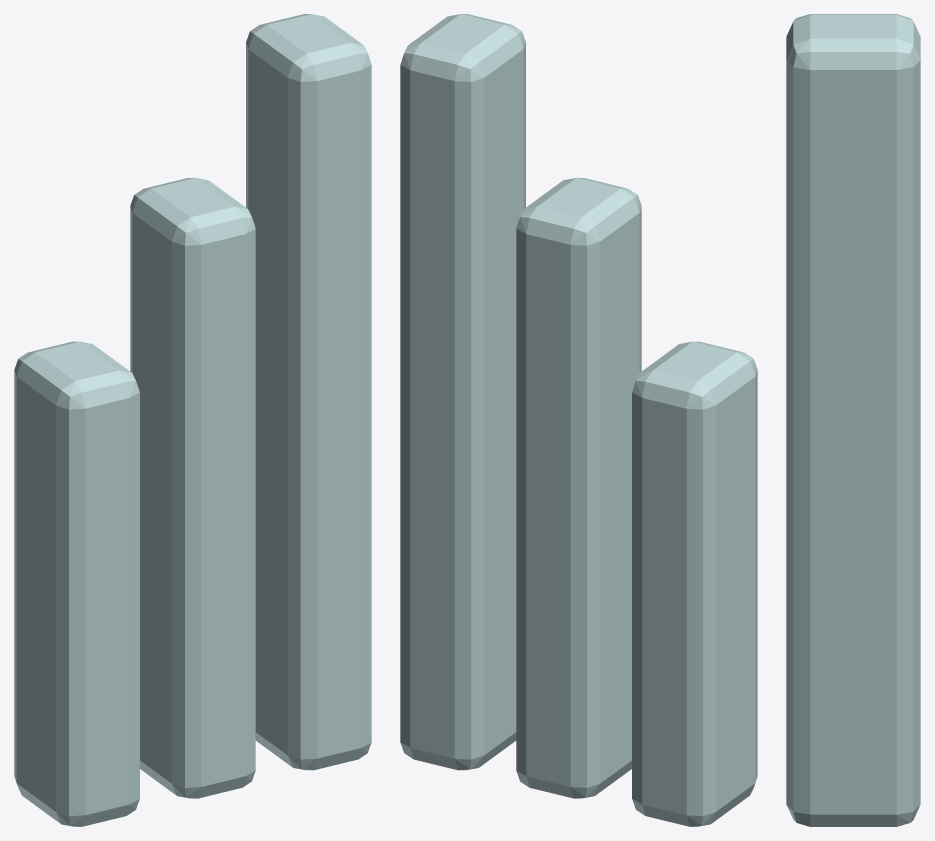
Rendered from monolith.glb.
The picture shows the model from 3 angles, left to right: view 1: azimuth 30°, elevation 25°; view 2: azimuth 150°, elevation 25°; view 3: azimuth 270°, elevation 25°; orthographic projection. The views are drawn at different scales.
Visible parts, largest first — view 1: Sculpt__Glass stone; view 2: Sculpt__Glass stone; view 3: Sculpt__Glass stone.
Boxes of the visible parts, box(x1,y1,x2,y2) form: Sculpt__Glass stone: box(14, 14, 371, 826); Sculpt__Glass stone: box(400, 14, 757, 826); Sculpt__Glass stone: box(786, 14, 920, 826).
Bounding box in the file's own units: 0.92 × 2.01 × 0.31.
